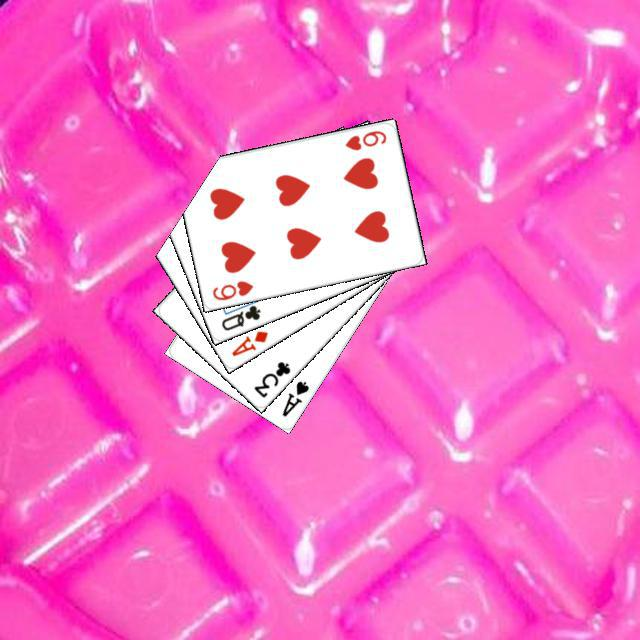3c: (249, 356, 292, 400)
6h: (340, 125, 388, 152), (207, 276, 255, 302)
Ad: (226, 326, 270, 358)
As: (277, 376, 311, 419)
Qc: (216, 294, 262, 332)
